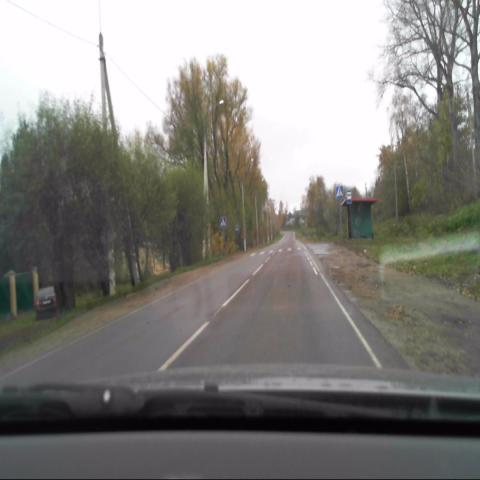5_19_1: (335, 185, 343, 198), (219, 216, 227, 228)
